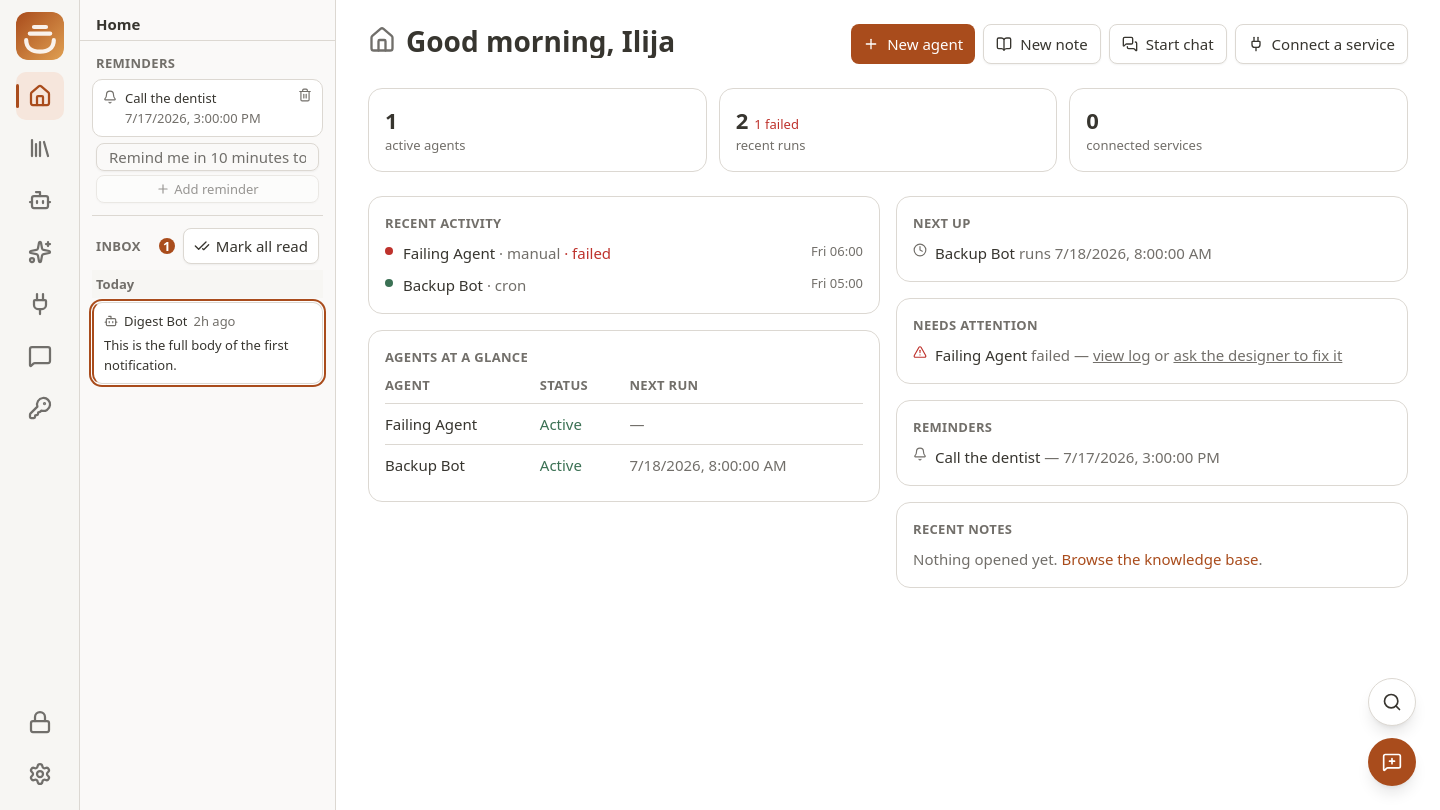
Scenario: inbox: click marks as read, expands body, and delete removes it
Expected: the text named "1 unread" is shown, [159, 238, 175, 254]
Click the text "Digest Bot" at (156, 321), box [124, 311, 188, 331]
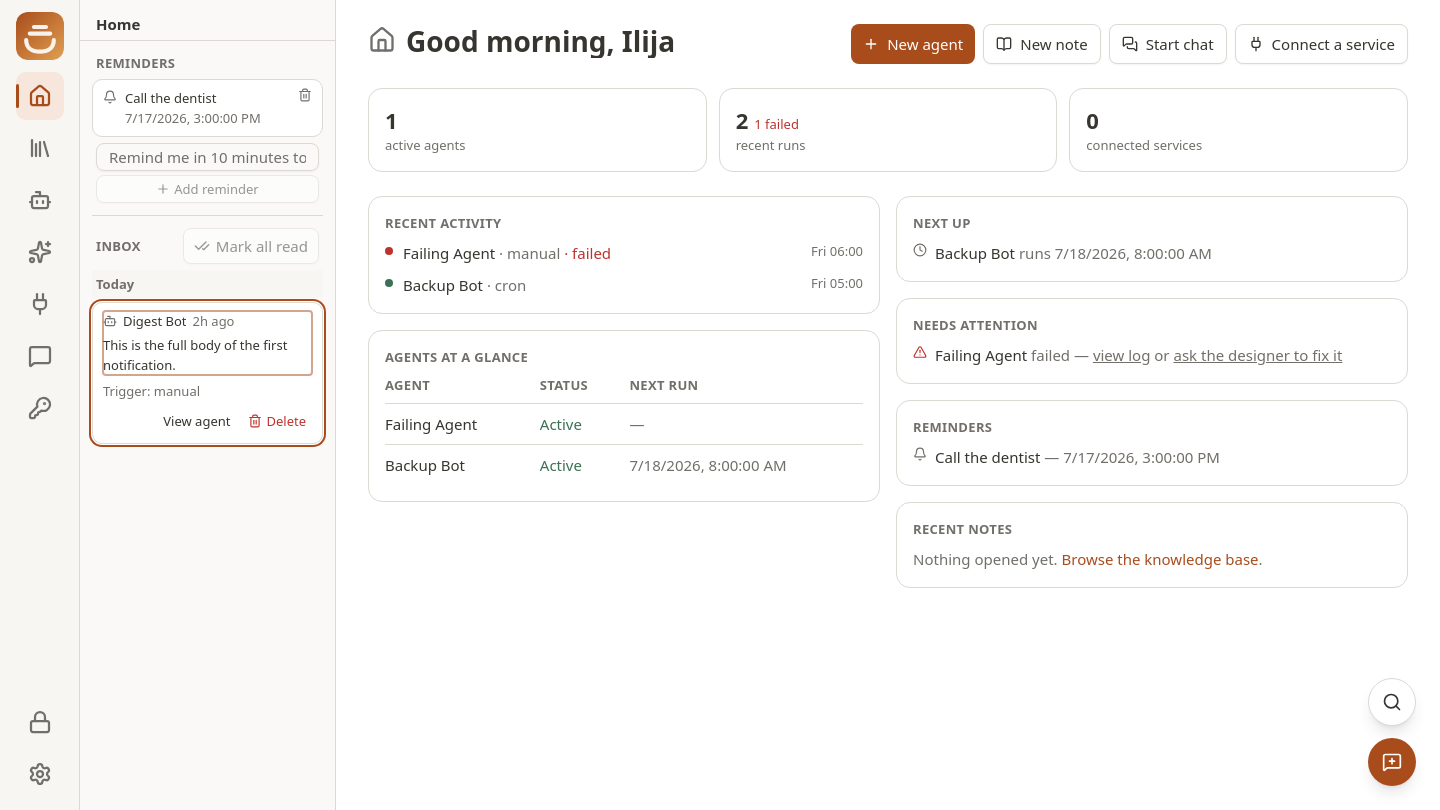
Click the button "Delete" at (277, 421), box [242, 407, 312, 435]
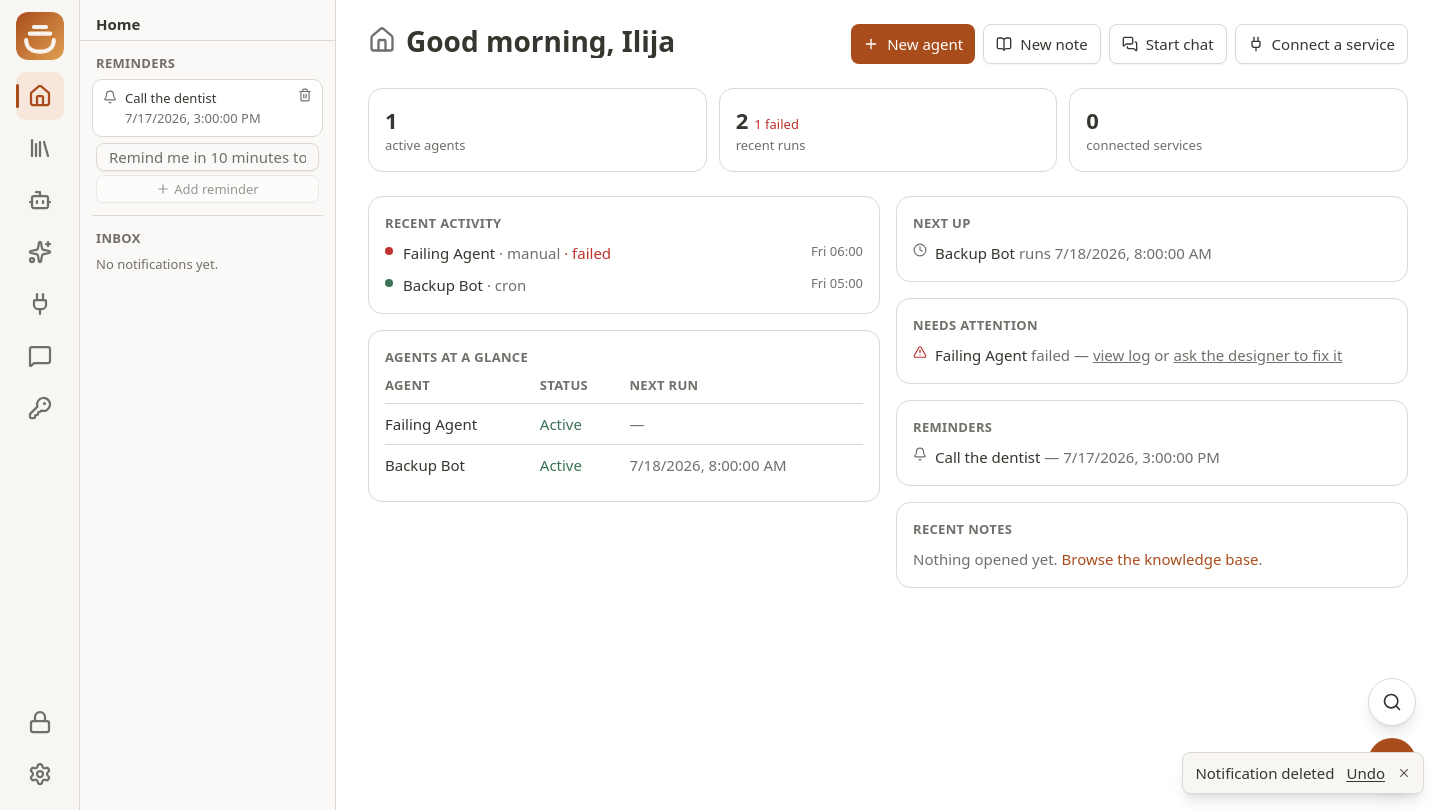
Expected: the button "Digest Bot" is gone
Expected: the text "No notifications yet." is shown, [96, 255, 218, 273]
